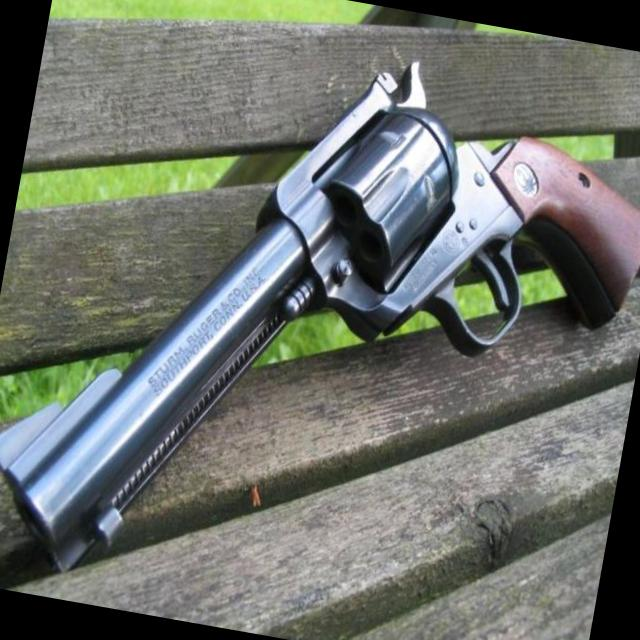Knife: (0, 63, 640, 570)
